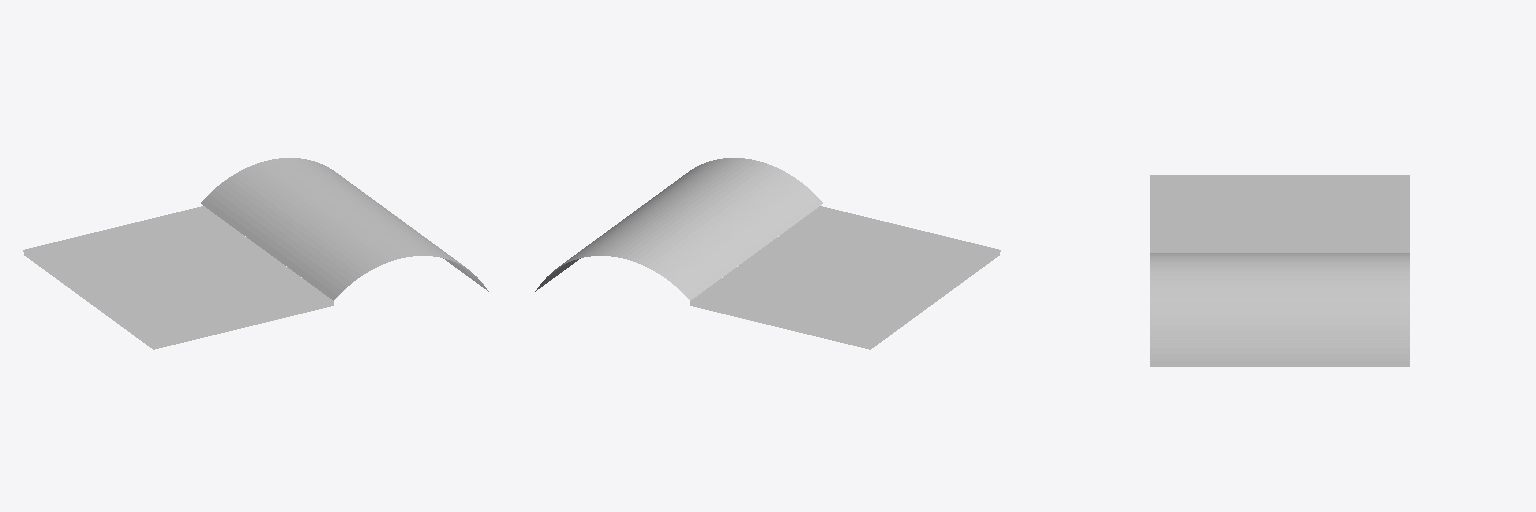
File: flipping.obj
The picture shows the model from 3 angles: view 1: azimuth 30°, elevation 25°; view 2: azimuth 150°, elevation 25°; view 3: azimuth 270°, elevation 25°; orthographic projection.
Visible parts, largest first — view 1: Plane, Plane.001; view 2: Plane, Plane.001; view 3: Plane.001, Plane.
Boxes of the visible parts, x1=… form: Plane: x1=23, y1=206, x2=333, y2=349; Plane.001: x1=201, y1=158, x2=488, y2=300; Plane: x1=690, y1=206, x2=1000, y2=349; Plane.001: x1=535, y1=158, x2=822, y2=300; Plane.001: x1=1150, y1=253, x2=1409, y2=366; Plane: x1=1150, y1=175, x2=1409, y2=252.
Size of the model in its own units: 2.97 by 0.4937 by 2.